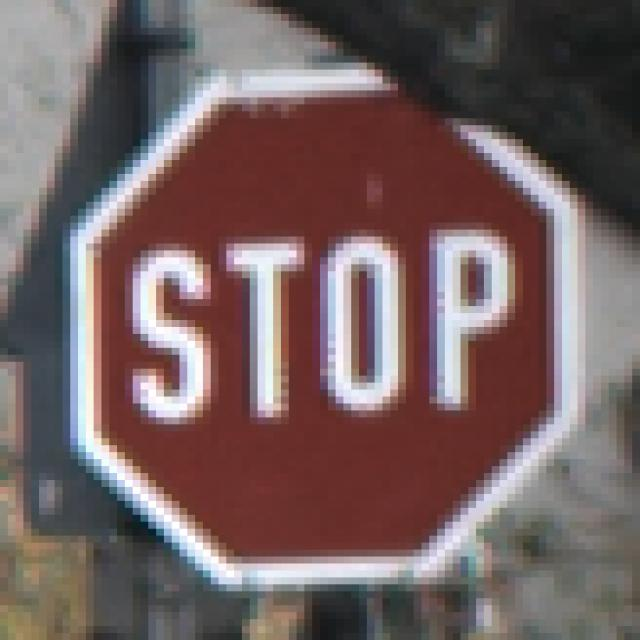STOP: (64, 64, 587, 585)
